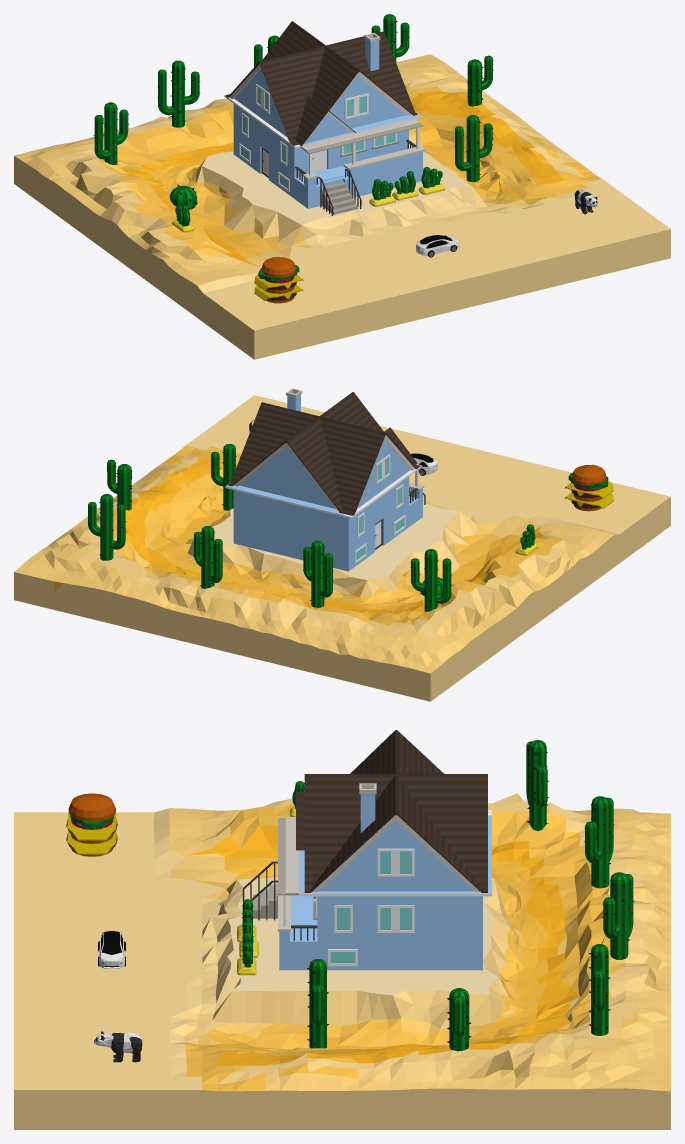
The picture shows the model from 3 angles, top to bottom: view 1: azimuth 30°, elevation 25°; view 2: azimuth 150°, elevation 25°; view 3: azimuth 270°, elevation 25°; orthographic projection. The views are drawn at different scales.
Visible parts, largest first — view 1: Cube.001, Cube.1594, OBJRANDOM_HAMBURGER, Cylinder.037, Cylinder.044, Cylinder.045, Cylinder.038, Cylinder.042, VEHICLES_TESLA, Cylinder.039, Cylinder.041, Sphere.023 (+1 smaller); view 2: Cube.001, Cube.1594, OBJRANDOM_HAMBURGER, Cylinder.042, Cylinder.045, Cylinder.044, Cylinder.043, Cylinder.037, Cylinder.038; view 3: Cube.001, Cube.1594, OBJRANDOM_HAMBURGER, Cylinder.043, Cylinder.044, Cylinder.045, Cylinder.042, Cylinder.037, Cylinder.038, ANIMAL_PANDA, VEHICLES_TESLA, Cylinder.041.
Part boxes in pixels (x1=…): Cube.001: x1=14, y1=54, x2=670, y2=359; Cube.1594: x1=224, y1=21, x2=425, y2=215; OBJRANDOM_HAMBURGER: x1=254, y1=257, x2=303, y2=303; Cylinder.037: x1=454, y1=115, x2=493, y2=182; Cylinder.044: x1=157, y1=60, x2=200, y2=127; Cylinder.045: x1=93, y1=102, x2=129, y2=164; Cylinder.038: x1=467, y1=55, x2=493, y2=106; Cylinder.042: x1=371, y1=14, x2=409, y2=62; VEHICLES_TESLA: x1=416, y1=235, x2=459, y2=257; Cylinder.039: x1=369, y1=179, x2=395, y2=206; Cylinder.041: x1=418, y1=167, x2=445, y2=194; Sphere.023: x1=169, y1=184, x2=197, y2=209; Cube.001: x1=14, y1=395, x2=670, y2=701; Cube.1594: x1=225, y1=388, x2=425, y2=571; OBJRANDOM_HAMBURGER: x1=564, y1=464, x2=613, y2=511; Cylinder.042: x1=88, y1=494, x2=126, y2=560; Cylinder.045: x1=410, y1=549, x2=452, y2=611; Cylinder.044: x1=303, y1=540, x2=333, y2=607; Cylinder.043: x1=193, y1=526, x2=222, y2=588; Cylinder.037: x1=211, y1=444, x2=240, y2=510; Cylinder.038: x1=107, y1=459, x2=131, y2=510; Cube.001: x1=14, y1=793, x2=670, y2=1129; Cube.1594: x1=242, y1=730, x2=491, y2=970; OBJRANDOM_HAMBURGER: x1=66, y1=793, x2=117, y2=856; Cylinder.043: x1=602, y1=872, x2=634, y2=959; Cylinder.044: x1=584, y1=796, x2=614, y2=888; Cylinder.045: x1=526, y1=740, x2=548, y2=830; Cylinder.042: x1=588, y1=944, x2=610, y2=1035; Cylinder.037: x1=307, y1=959, x2=329, y2=1048; Cylinder.038: x1=447, y1=988, x2=471, y2=1051; ANIMAL_PANDA: x1=94, y1=1031, x2=142, y2=1062; VEHICLES_TESLA: x1=98, y1=931, x2=125, y2=968; Cylinder.041: x1=237, y1=932, x2=256, y2=975.
Size of the model in its own units: 4002 by 1643 by 4001.
32 materials, 2 textured.
